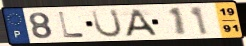1: (189, 5, 210, 36), (167, 6, 188, 37)
8: (28, 12, 55, 40)
A: (124, 8, 159, 38)
L: (57, 11, 86, 39)
U: (90, 8, 124, 39)
